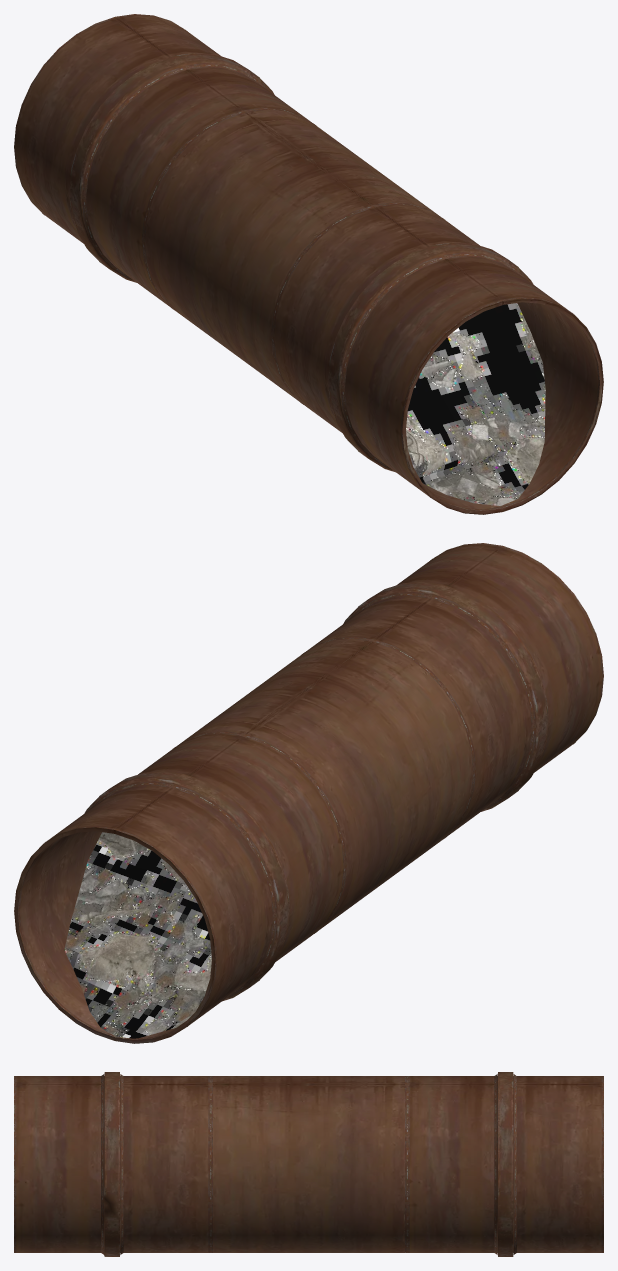
The model's file is pipeline_300x900_blocked.glb.
3 views of the same model, one above another, from view 1: azimuth 30°, elevation 25°; view 2: azimuth 150°, elevation 25°; view 3: azimuth 270°, elevation 25° (orthographic). The views are drawn at different scales.
Visible parts, largest first — view 1: pipeline_300x900_blocked_LOD0; view 2: pipeline_300x900_blocked_LOD0; view 3: pipeline_300x900_blocked_LOD0.
Boxes of the visible parts, box(x1,y1,x2,y2) form: pipeline_300x900_blocked_LOD0: box(14, 14, 603, 514); pipeline_300x900_blocked_LOD0: box(14, 543, 603, 1043); pipeline_300x900_blocked_LOD0: box(14, 1072, 603, 1256).
Bounding box in the file's own units: 2.82 × 2.82 × 9.
Materials: 3 (3 with a texture image).
